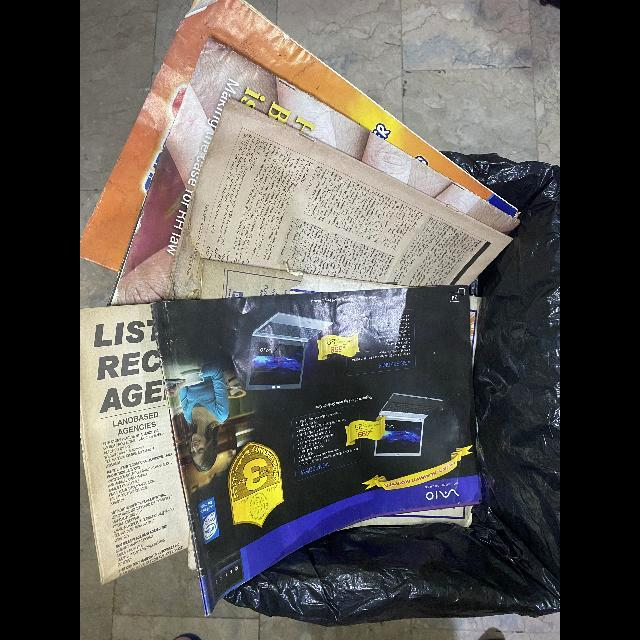paper: (80, 0, 519, 274), (107, 36, 521, 306), (152, 286, 483, 615), (164, 97, 513, 299), (80, 302, 193, 585)
